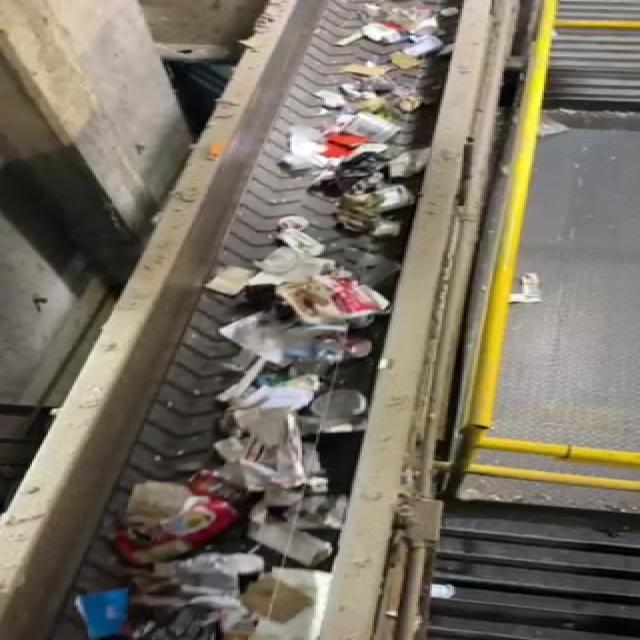metal: (180, 462, 267, 509)
pet: (120, 495, 272, 577)
